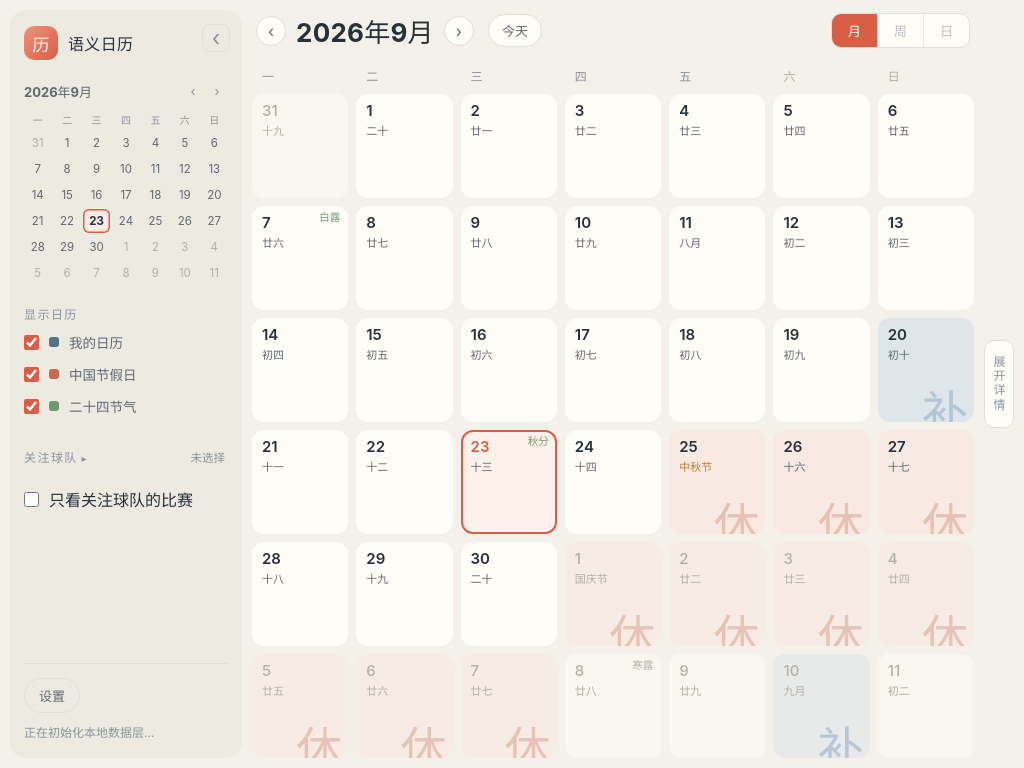
Test: 三栏布局与月视图（SC-004 / CAL-001 / CAL-004） › 侧栏可折叠 / 展开，月历始终保留
The width and height of the screenshot is (1024, 768).
Click the button named "收起侧栏".
click(216, 38)  # box [202, 24, 230, 52]
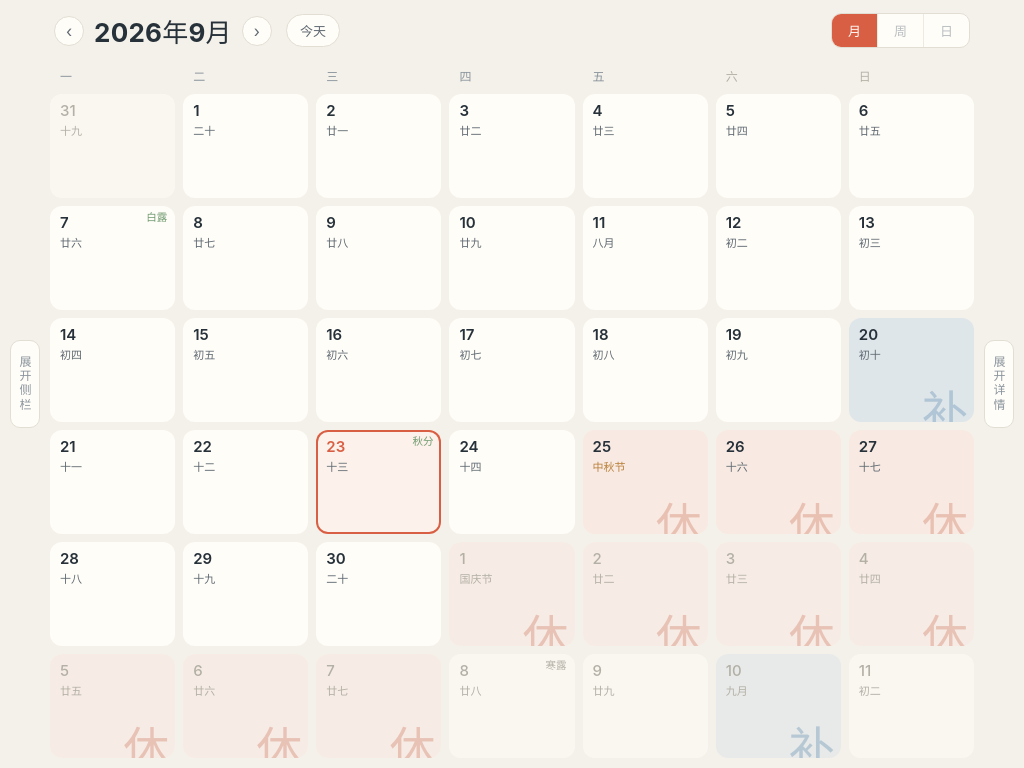
expect the element showing "‹ 2026年9月 › 今天 月 周 日 一 二 三 四 五 六 日" is shown: met, box [54, 13, 970, 84]
expect the button "展开侧栏" is collapsed: met
Click the button "展开侧栏".
click(25, 384)  # box [10, 340, 40, 428]
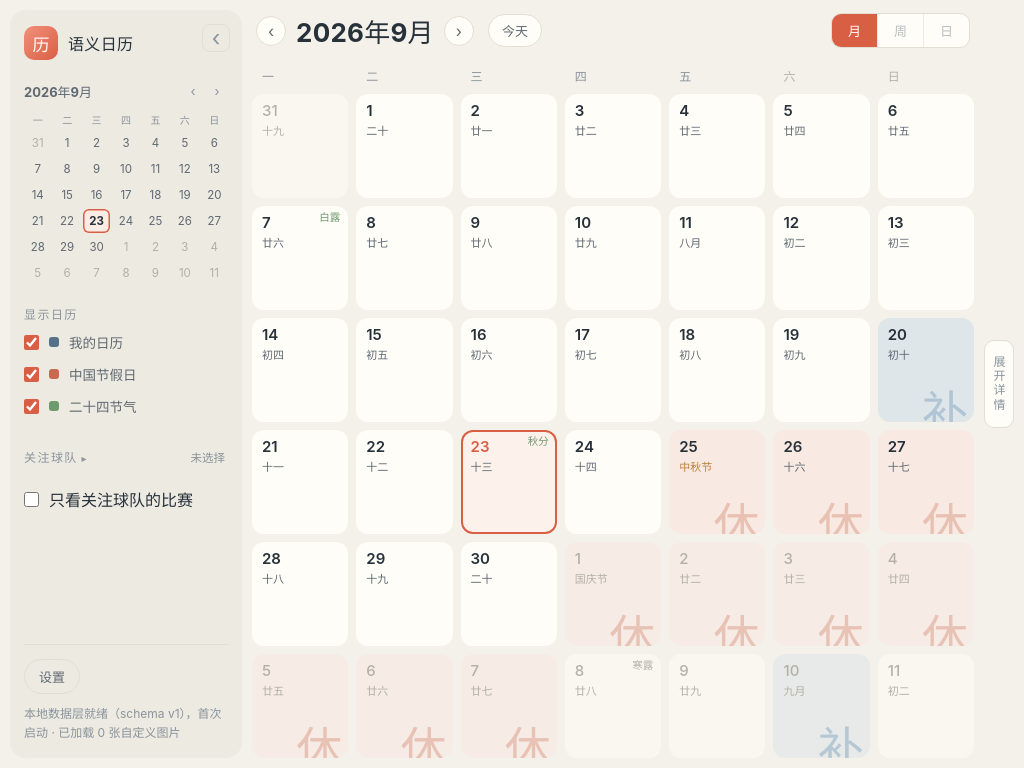
expect the element named "侧栏" is shown: met, box [10, 10, 242, 758]
